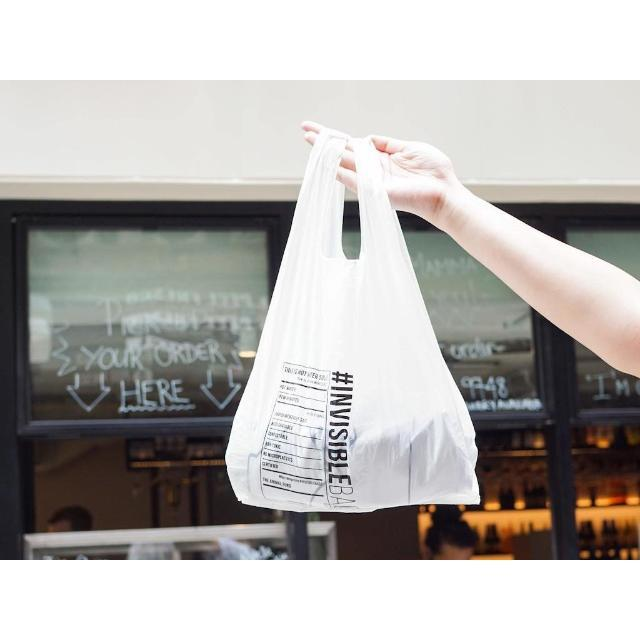plastic: (226, 129, 478, 511)
